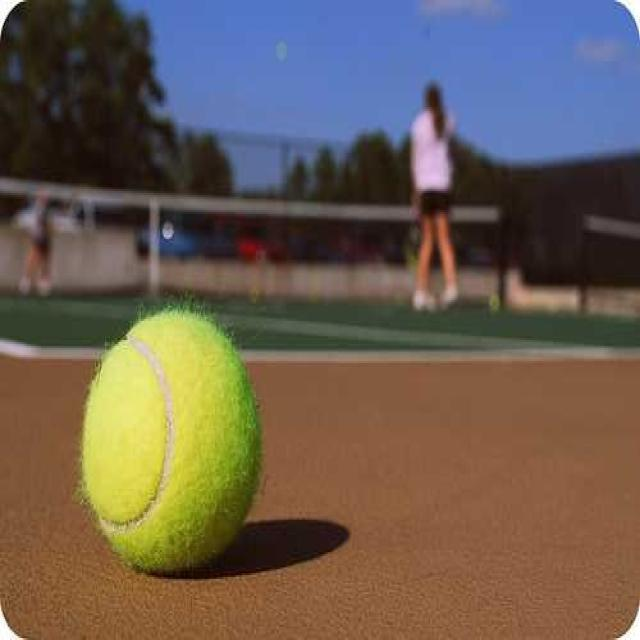Tennis_Ball: (84, 308, 259, 574)
